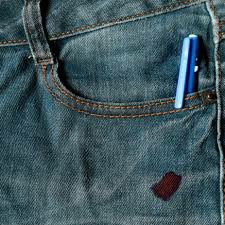pen: (175, 26, 200, 121)
